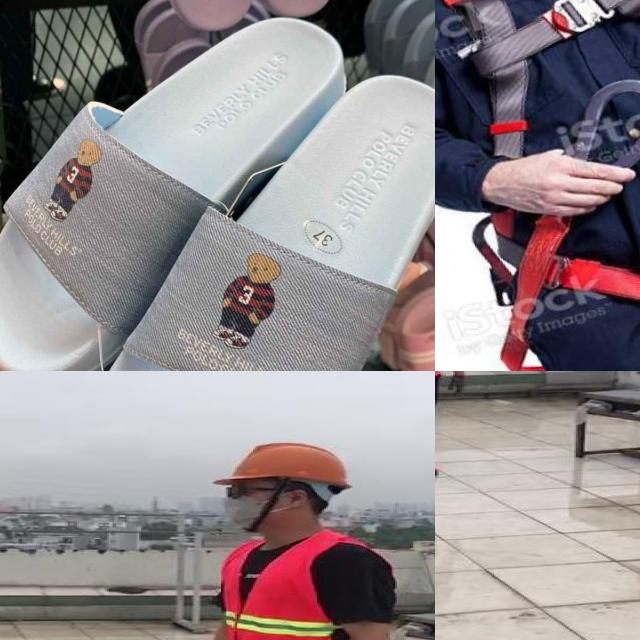Harness: (443, 0, 640, 158), (502, 215, 640, 371)
Sandals: (0, 0, 435, 371)
face_mask: (218, 479, 280, 527)
glasses: (215, 479, 257, 502)
hand_glove: (450, 373, 468, 392)
head_helmet: (220, 439, 352, 486)
person: (159, 432, 406, 640)
vest: (217, 534, 352, 640)
